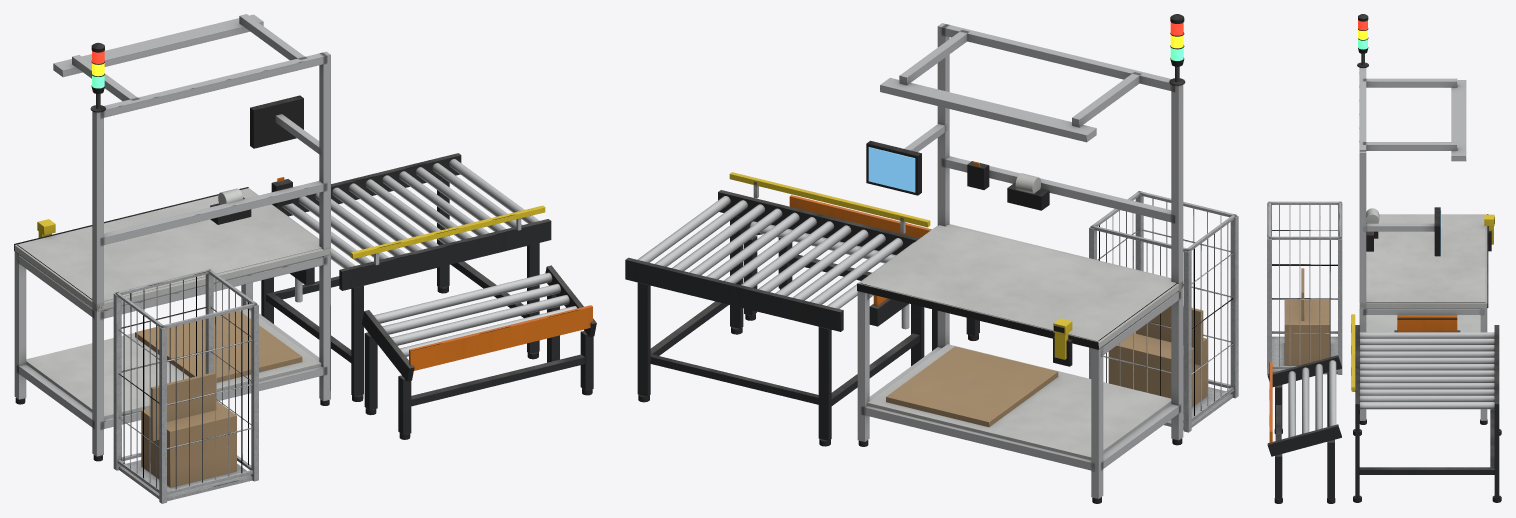
Rendered from UnpackingStation.fbx.
3 views of the same model, side by side, from view 1: azimuth 30°, elevation 25°; view 2: azimuth 150°, elevation 25°; view 3: azimuth 270°, elevation 25° (orthographic). The views are drawn at different scales.
Visible parts, largest first — view 1: Body_LOD0; view 2: Body_LOD0; view 3: Body_LOD0, Stop_LOD0.
Boxes of the visible parts, left/top/right/bottom form: Body_LOD0: left=14, top=14, right=596, bottom=503; Body_LOD0: left=625, top=23, right=1238, bottom=503; Body_LOD0: left=1267, top=68, right=1501, bottom=503; Stop_LOD0: left=1397, top=315, right=1457, bottom=332.
Size of what is drawn, in the model's own units: 2.72 by 2.37 by 1.56.
Materials: 1 (1 with a texture image).
